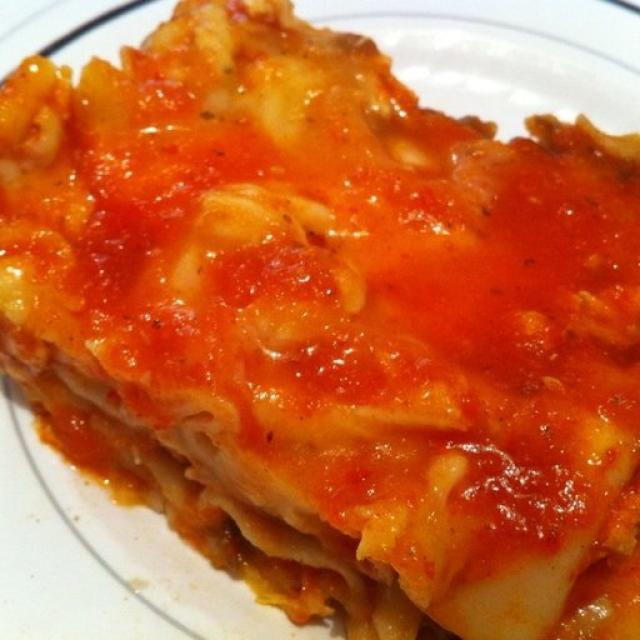Lasagna: (19, 20, 639, 626)
